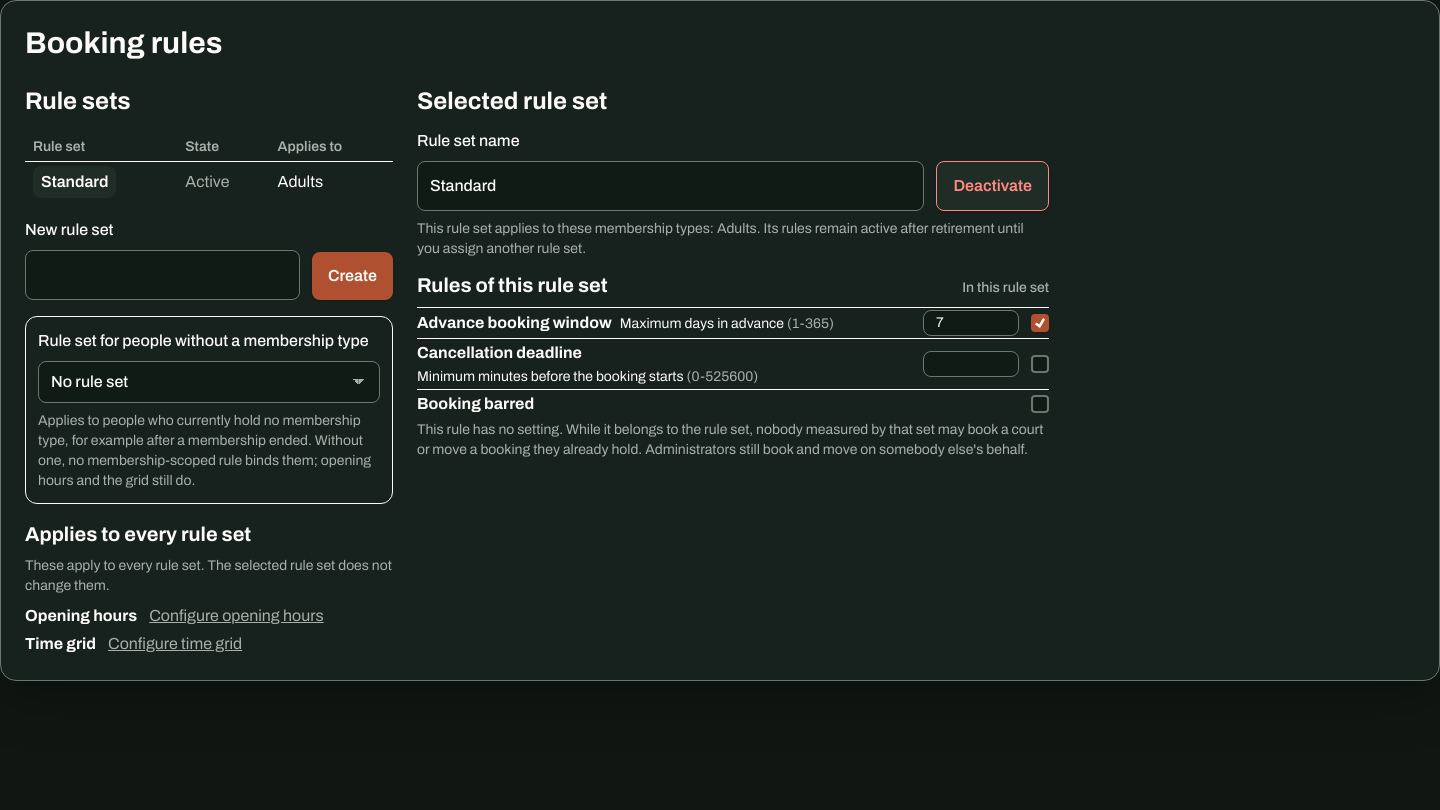
Scenario: AdminRuleSetsView › when a rule set is added, then it is created and becomes the one being edited
This screenshot has width=1440, height=810.
Type "Juniors" into the field with test id "new-rule-set-name" at (162, 275), box [25, 250, 300, 300]
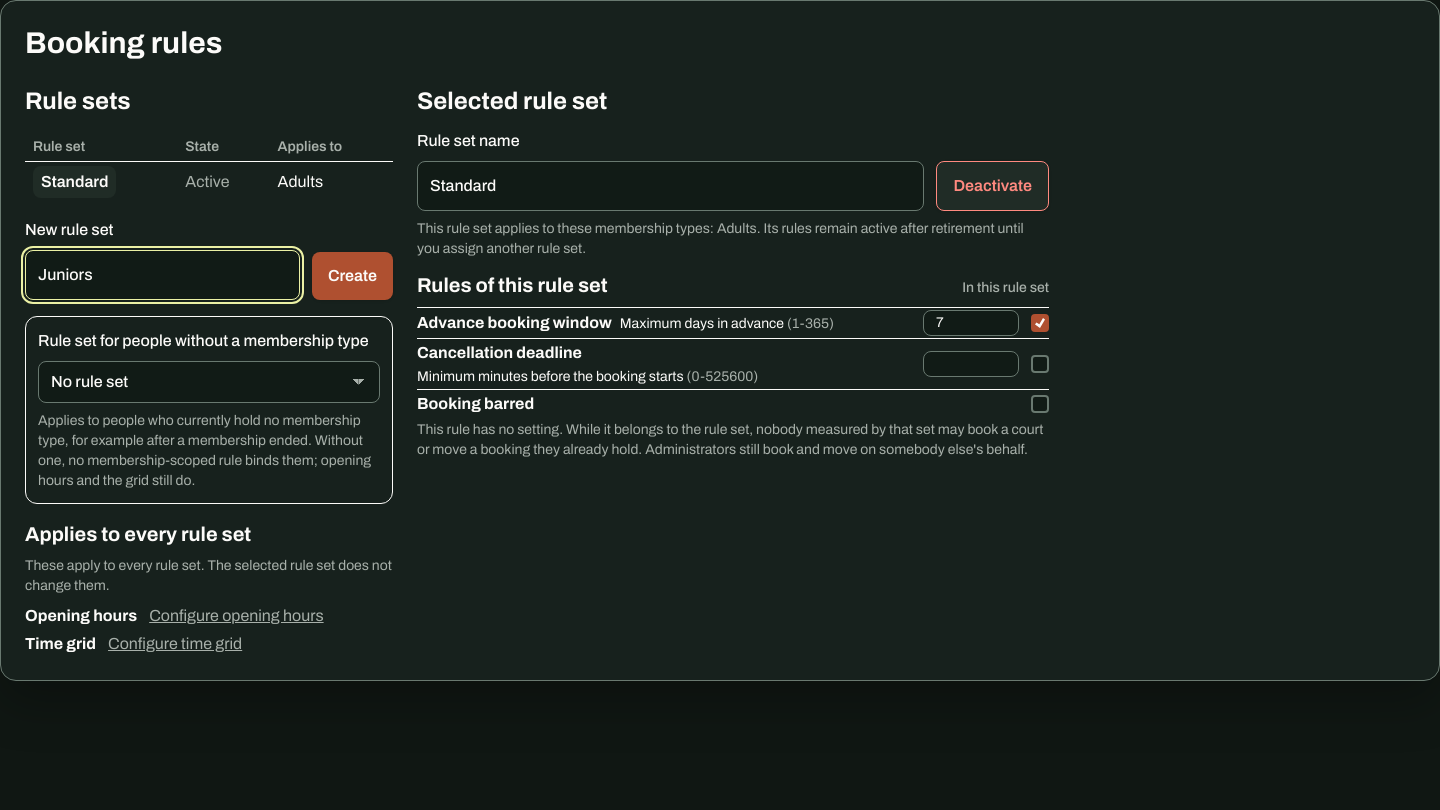
Click the button with test id "create-rule-set" at (352, 276), box [312, 252, 393, 300]
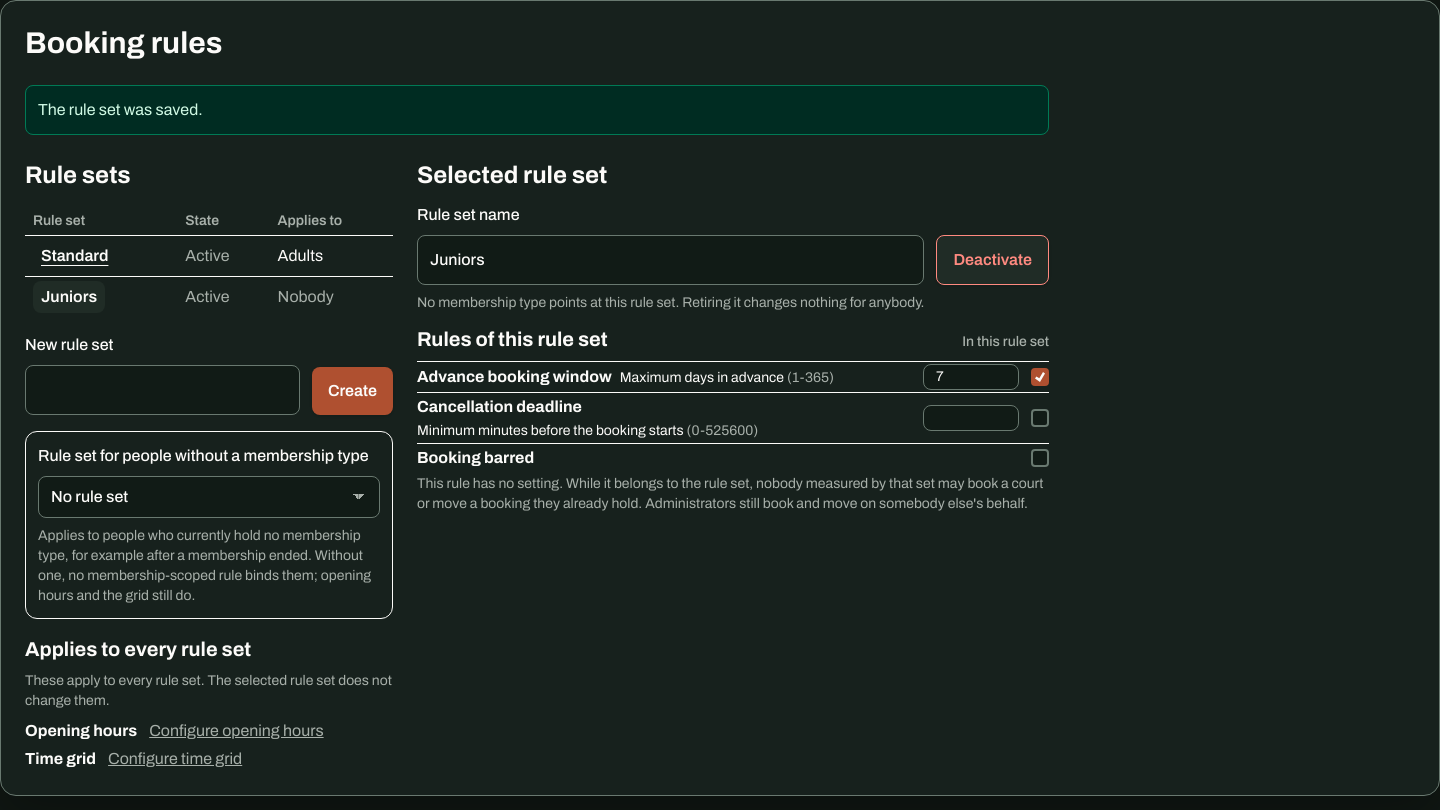
Result: the field with test id "rule-set-name" holds "Juniors" at [417, 235, 924, 285]
